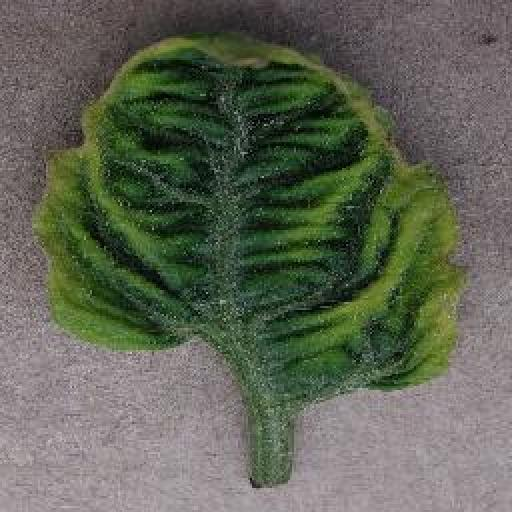Yellow Leaf Curl Virus: (36, 28, 463, 409)
